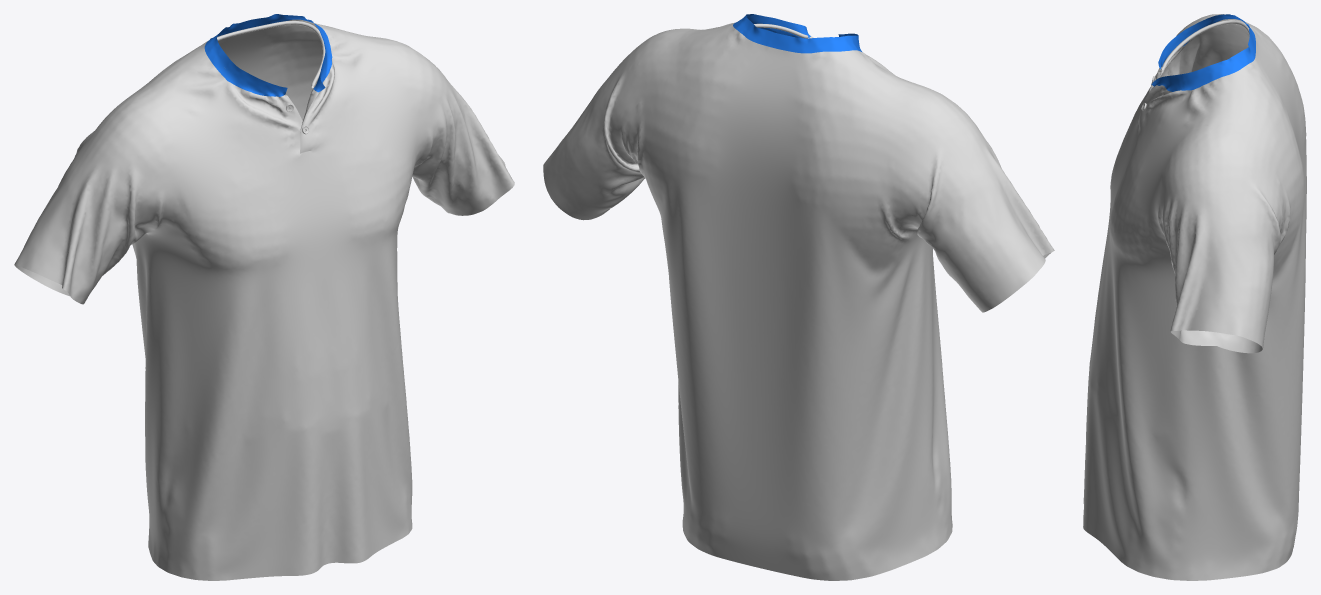
File: collar.glb
3 renders of one model, left to right at view 1: azimuth 30°, elevation 25°; view 2: azimuth 150°, elevation 25°; view 3: azimuth 270°, elevation 25°, orthographic. The views are drawn at different scales.
Visible parts, largest first — view 1: New_Jersey2; view 2: New_Jersey2; view 3: New_Jersey2.
Part boxes in pixels (bbox=[...]): New_Jersey2: bbox=[14, 14, 514, 580]; New_Jersey2: bbox=[543, 14, 1054, 580]; New_Jersey2: bbox=[1083, 14, 1306, 580].
Size of the model in its own units: 0.693 by 0.7001 by 0.2851.
Materials: 2 (1 with a texture image).
